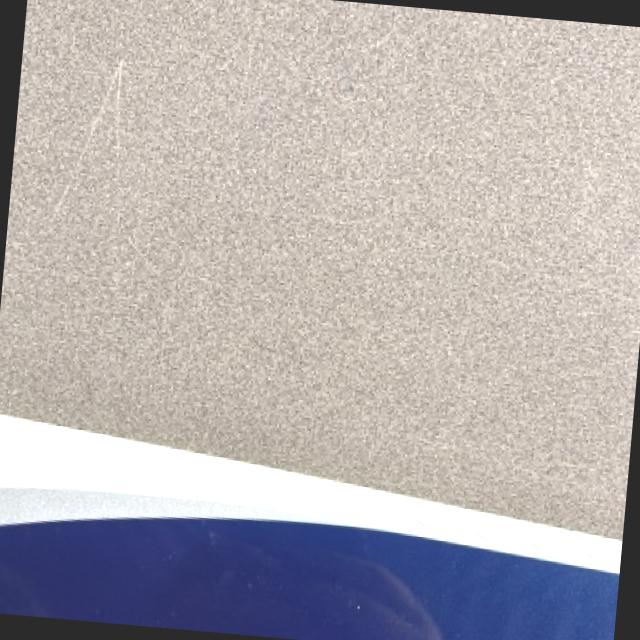healthy: (0, 413, 622, 640)
